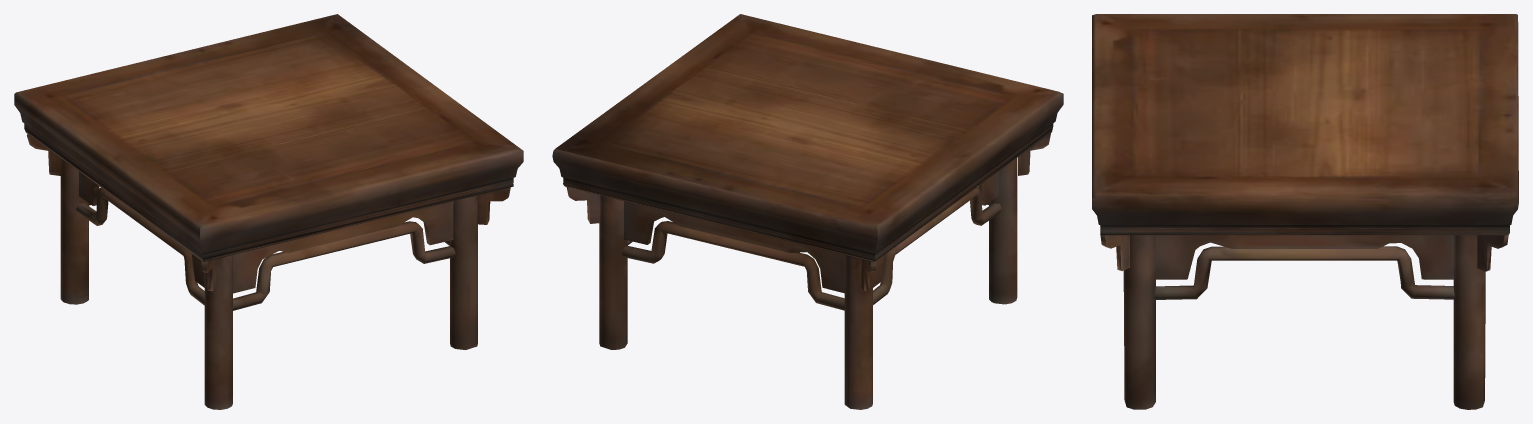
Rendered from cn_tea_table.glb.
The picture shows the model from 3 angles, left to right: view 1: azimuth 30°, elevation 25°; view 2: azimuth 150°, elevation 25°; view 3: azimuth 270°, elevation 25°; orthographic projection. The views are drawn at different scales.
Parts seen in each view (by area): view 1: cn_tea_table; view 2: cn_tea_table; view 3: cn_tea_table.
Part boxes in pixels (bbox=[...]): cn_tea_table: bbox=[14, 14, 523, 409]; cn_tea_table: bbox=[552, 14, 1063, 409]; cn_tea_table: bbox=[1092, 14, 1518, 409].
Bounding box in the file's own units: 0.8397 × 0.4986 × 0.834.
1 material, 1 textured.
